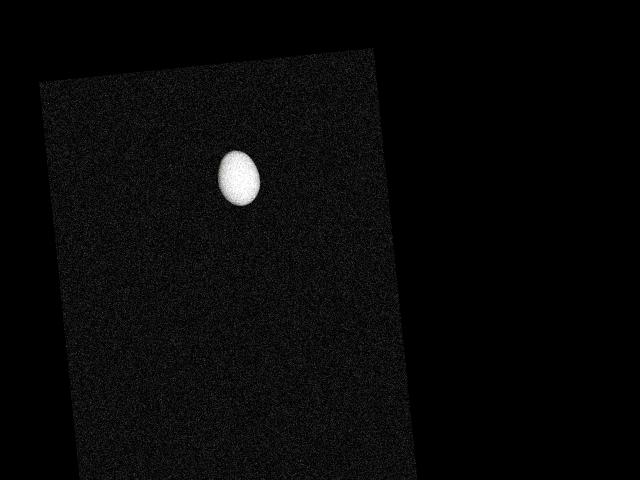egg: (215, 149, 262, 208)
